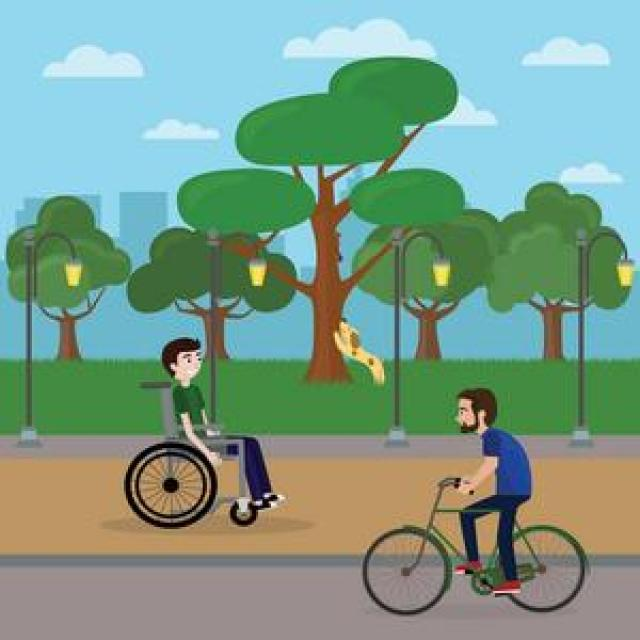wheelchairs: (120, 376, 272, 532)
